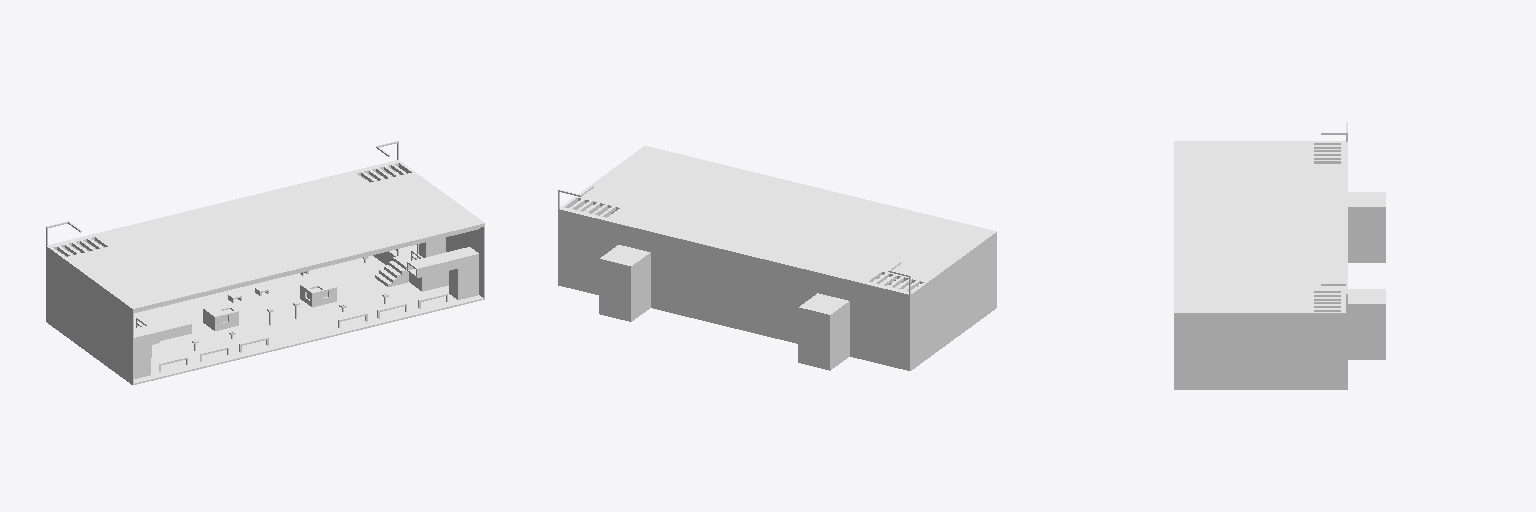
File: Land.obj
3 renders of one model, left to right at view 1: azimuth 30°, elevation 25°; view 2: azimuth 150°, elevation 25°; view 3: azimuth 270°, elevation 25°, orthographic.
Visible parts, largest first — view 1: object 1; view 2: object 1; view 3: object 1.
Boxes of the visible parts, <box> form: object 1: <box>46,141,484,384</box>; object 1: <box>558,146,996,370</box>; object 1: <box>1174,122,1385,389</box>.
Size of the model in its own units: 23.2 by 6 by 12.1.